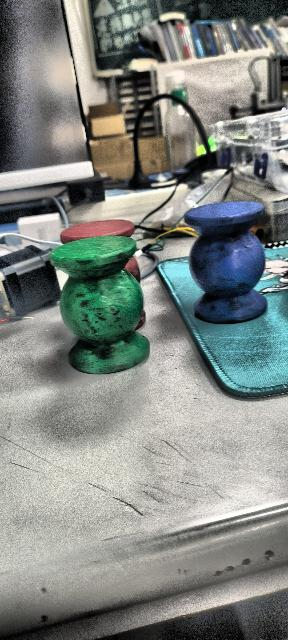blue: (184, 200, 266, 324)
green: (49, 236, 152, 374)
red: (60, 219, 135, 246)
